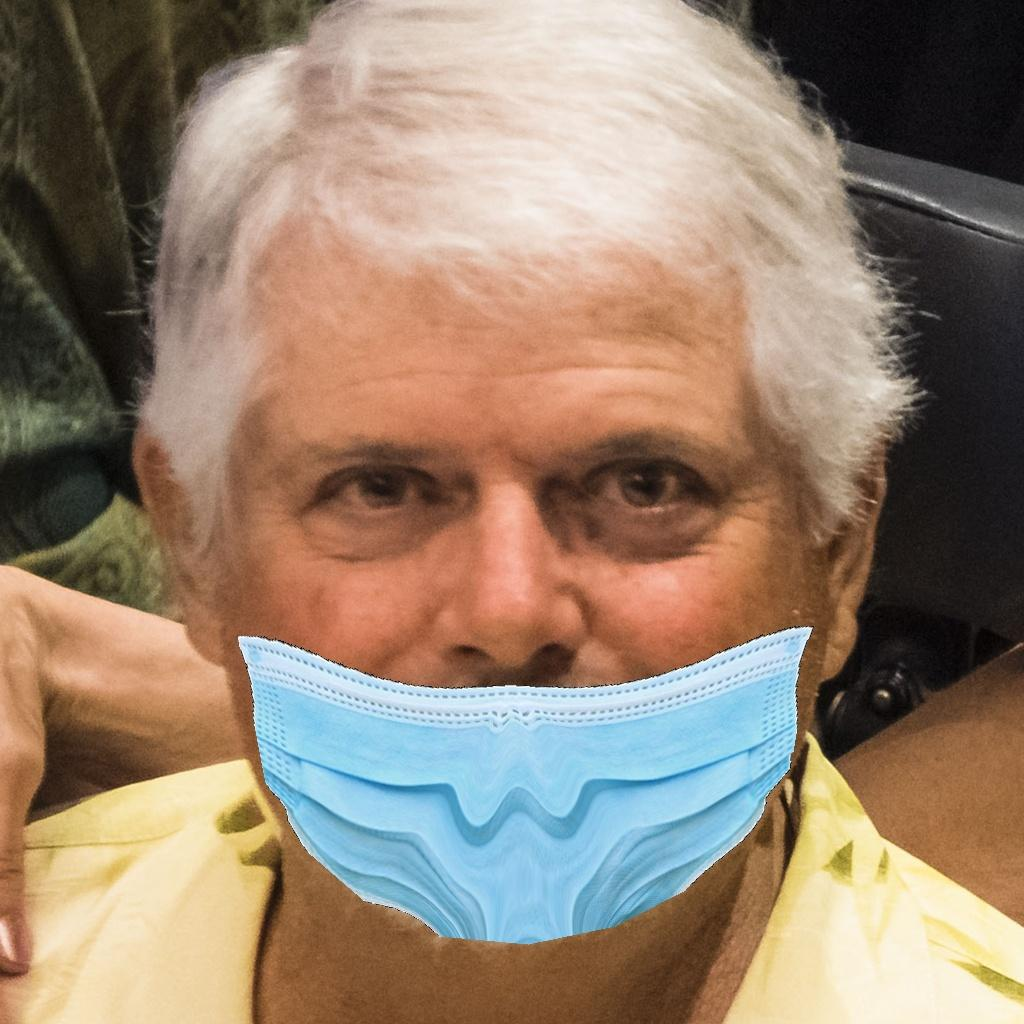Máscara Incorreta: (225, 363, 797, 911)
